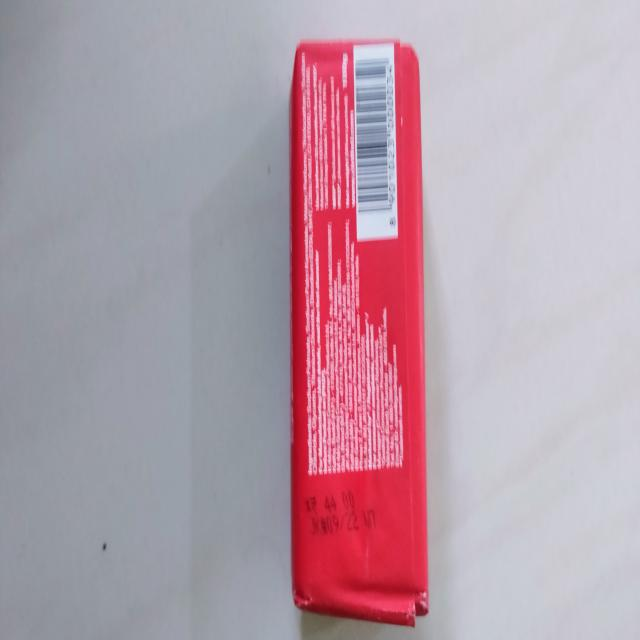soap: (287, 28, 433, 625)
